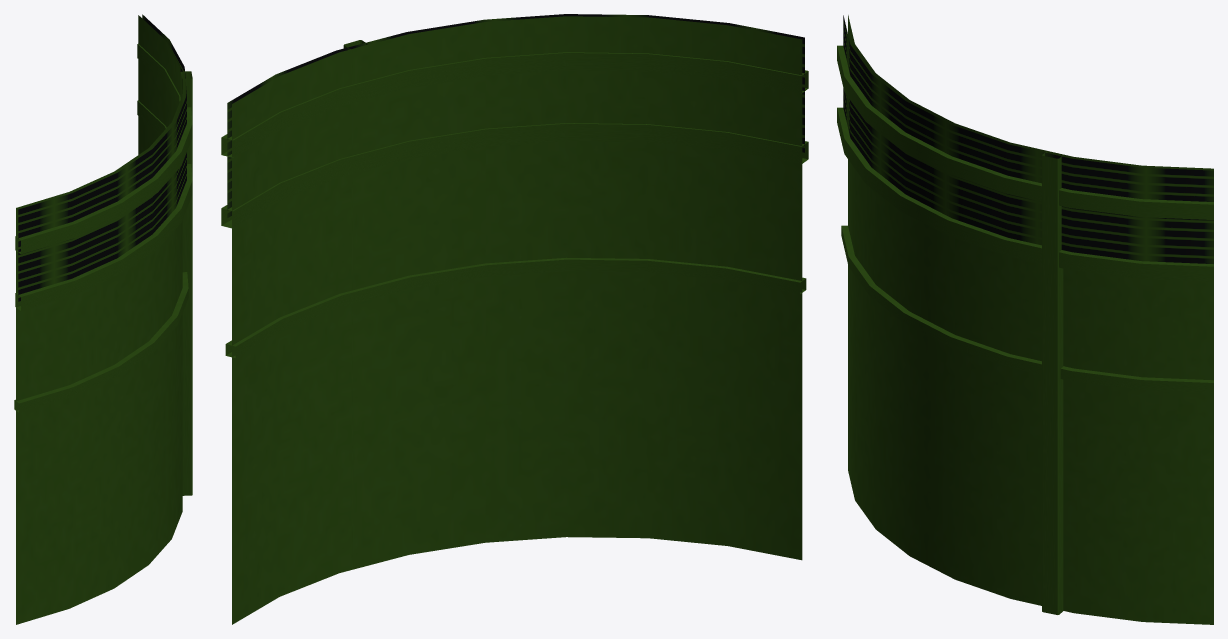
File: cell_30.obj
3 renders of one model, left to right at view 1: azimuth 30°, elevation 25°; view 2: azimuth 150°, elevation 25°; view 3: azimuth 270°, elevation 25°, orthographic. The views are drawn at different scales.
Visible parts, largest first — view 1: cell_30; view 2: cell_30; view 3: cell_30.
Boxes of the visible parts, left/top/right/bottom form: cell_30: left=14, top=14, right=192, bottom=624; cell_30: left=221, top=14, right=808, bottom=624; cell_30: left=837, top=15, right=1213, bottom=624.
Size of the model in its own units: 0.7481 by 1 by 0.7481.
